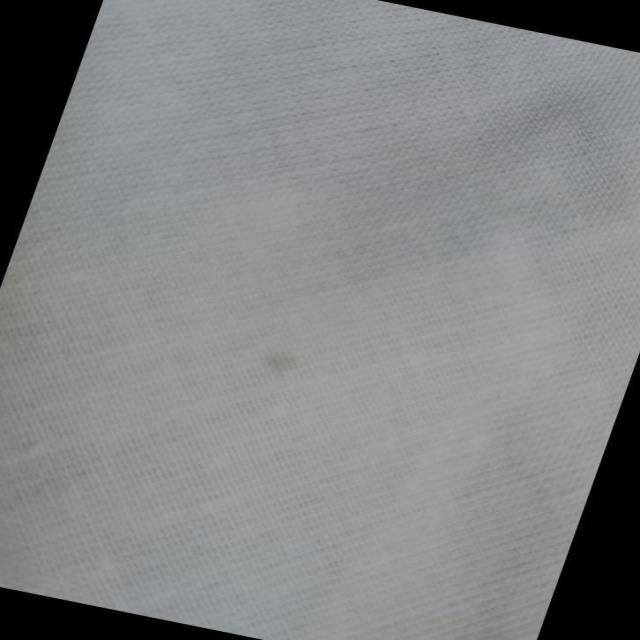stain: (244, 334, 320, 390)
